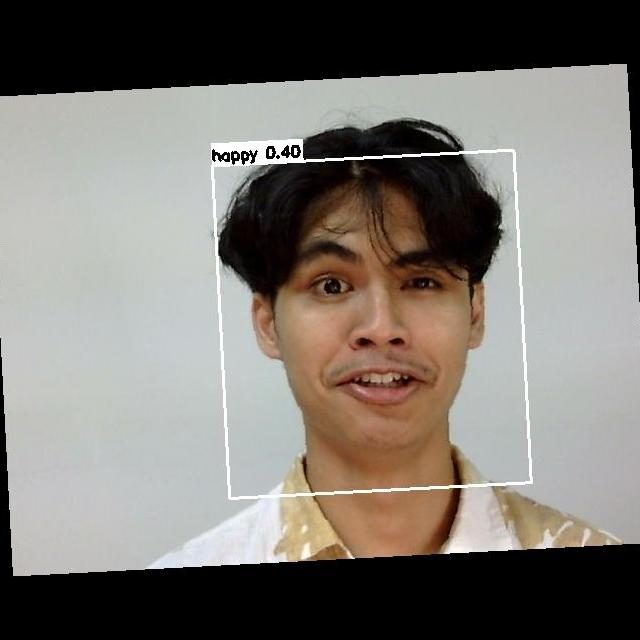Fear: (265, 221, 478, 418)
